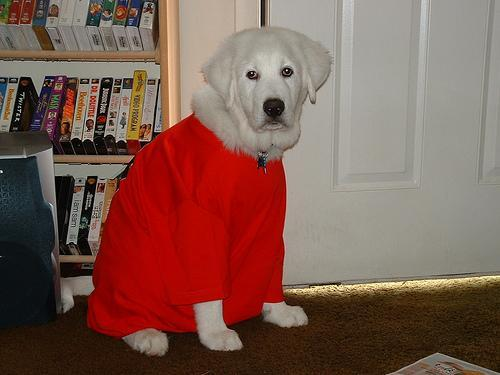Great_Pyrenees: (84, 23, 337, 358)
